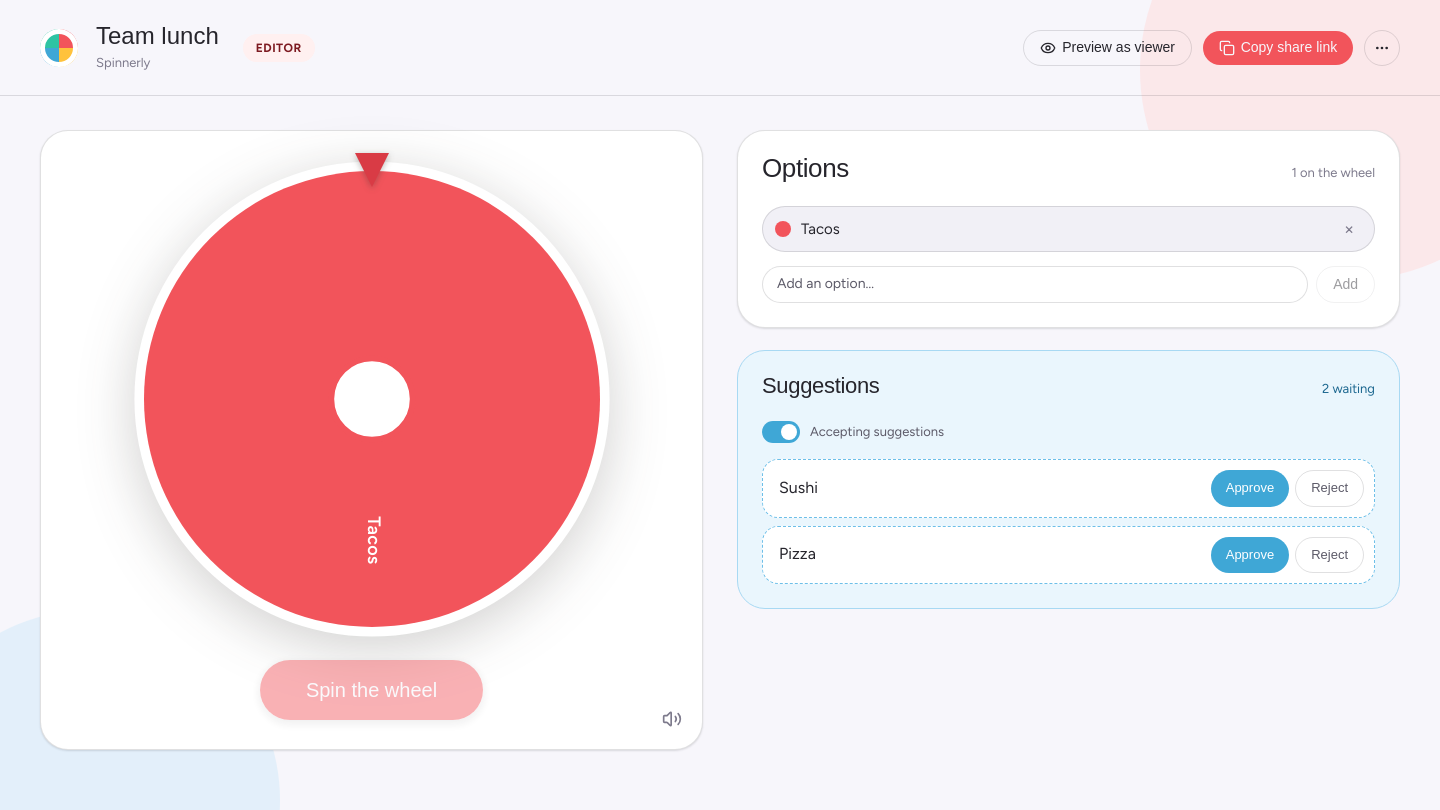
Test: the suggestions queue › removes a rejected suggestion without waiting for a snapshot
Expected: the header is shown, x1=0 y1=0 x2=1439 y2=96
Click the button with aria-label "Reject Sushi".
click(1330, 488)  # box x1=1295 y1=470 x2=1364 y2=506
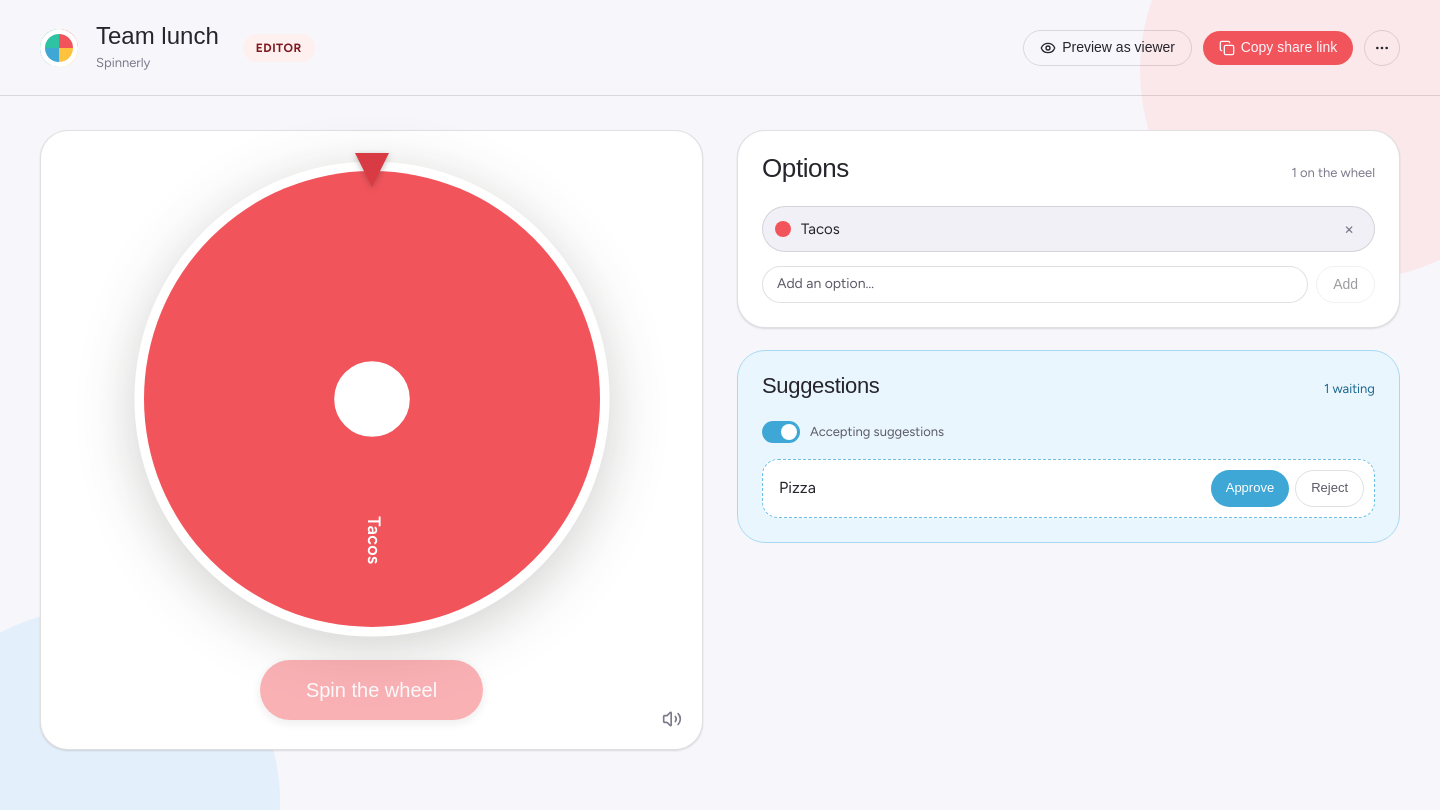
Expected: the text "Pizza" is shown, x1=779 y1=478 x2=816 y2=497
Expected: the text "Sushi" is gone
